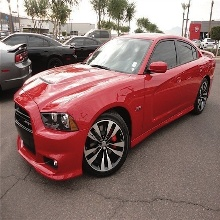no damage: (12, 33, 214, 178), (1, 32, 102, 80)
